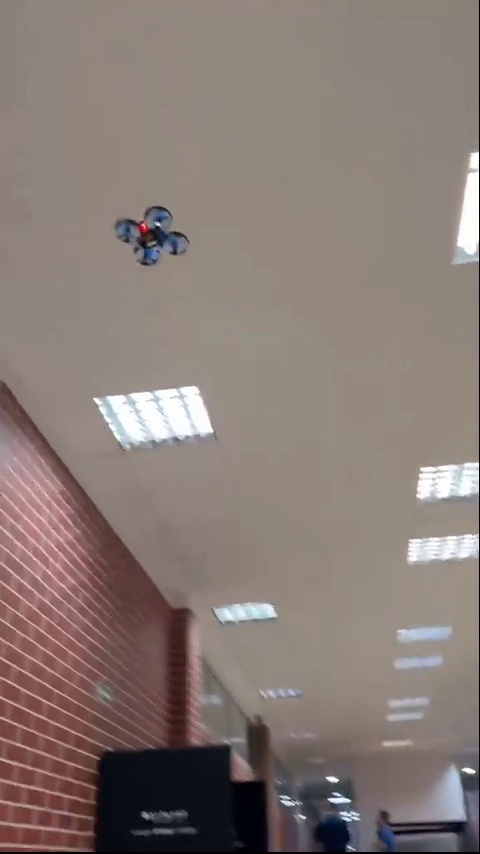drone: (108, 207, 194, 270)
